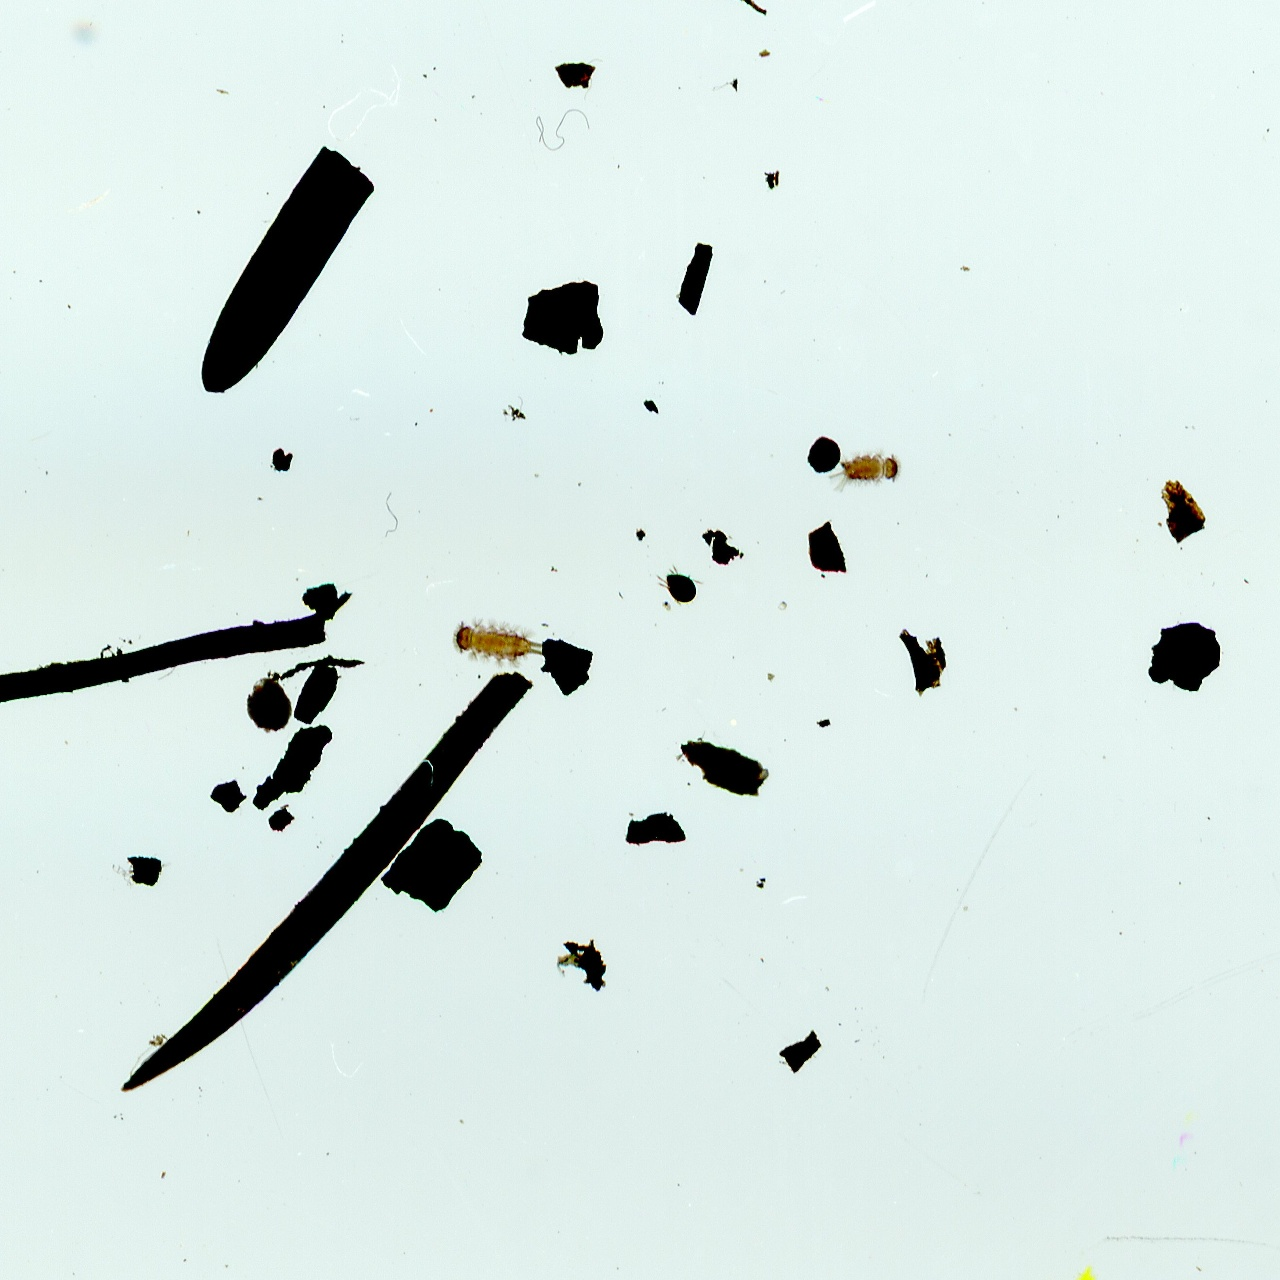arthropod: (449, 617, 550, 667), (829, 447, 905, 496), (651, 557, 709, 610)
